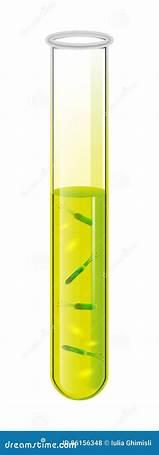Test tube: (37, 15, 111, 404)
